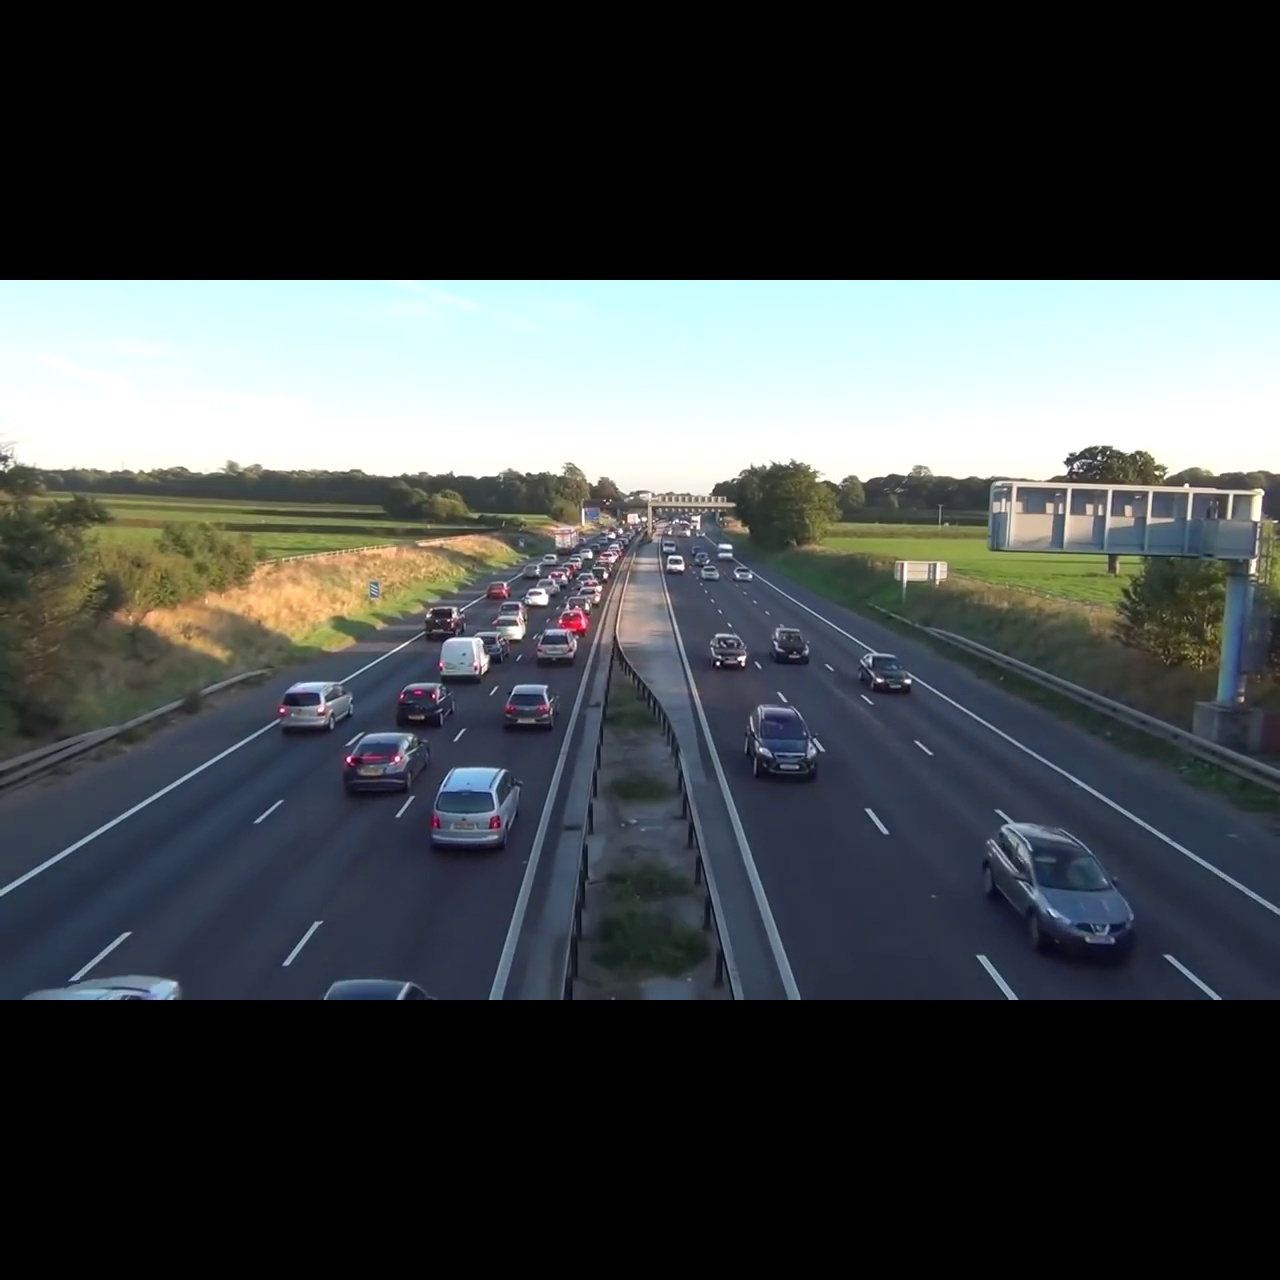vehicle: (978, 818, 1142, 966), (428, 763, 526, 852), (742, 697, 819, 782), (343, 730, 433, 797), (277, 678, 358, 736), (393, 681, 459, 730), (503, 683, 563, 731), (857, 652, 914, 697), (438, 636, 492, 685), (708, 629, 750, 672), (535, 629, 580, 667), (769, 627, 812, 665), (423, 606, 467, 638)
